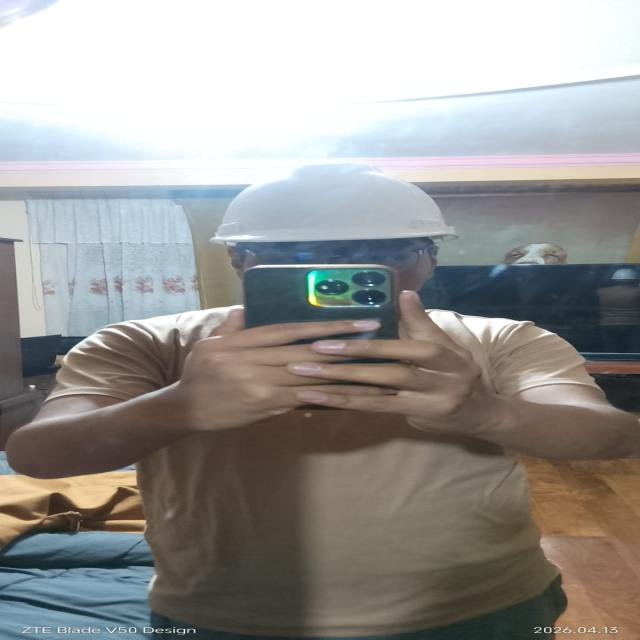casco: (190, 160, 474, 254)
